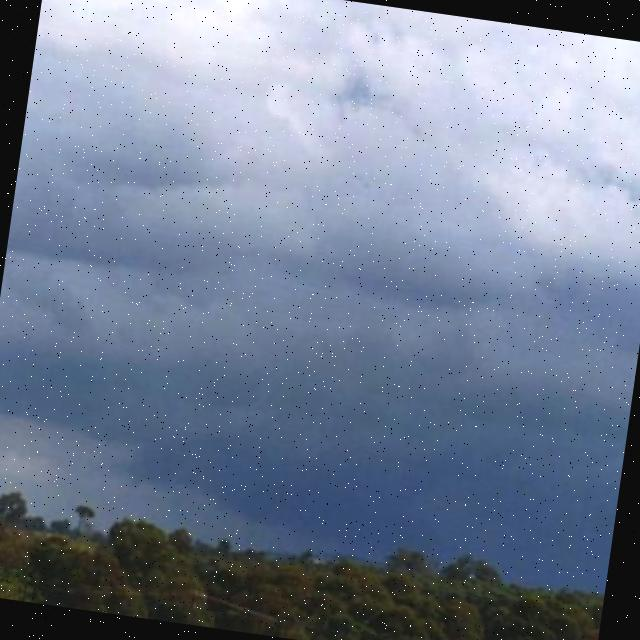St: (1, 1, 640, 485)
